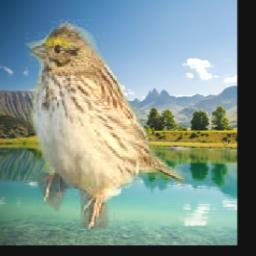Sparrow: (24, 19, 185, 229)
